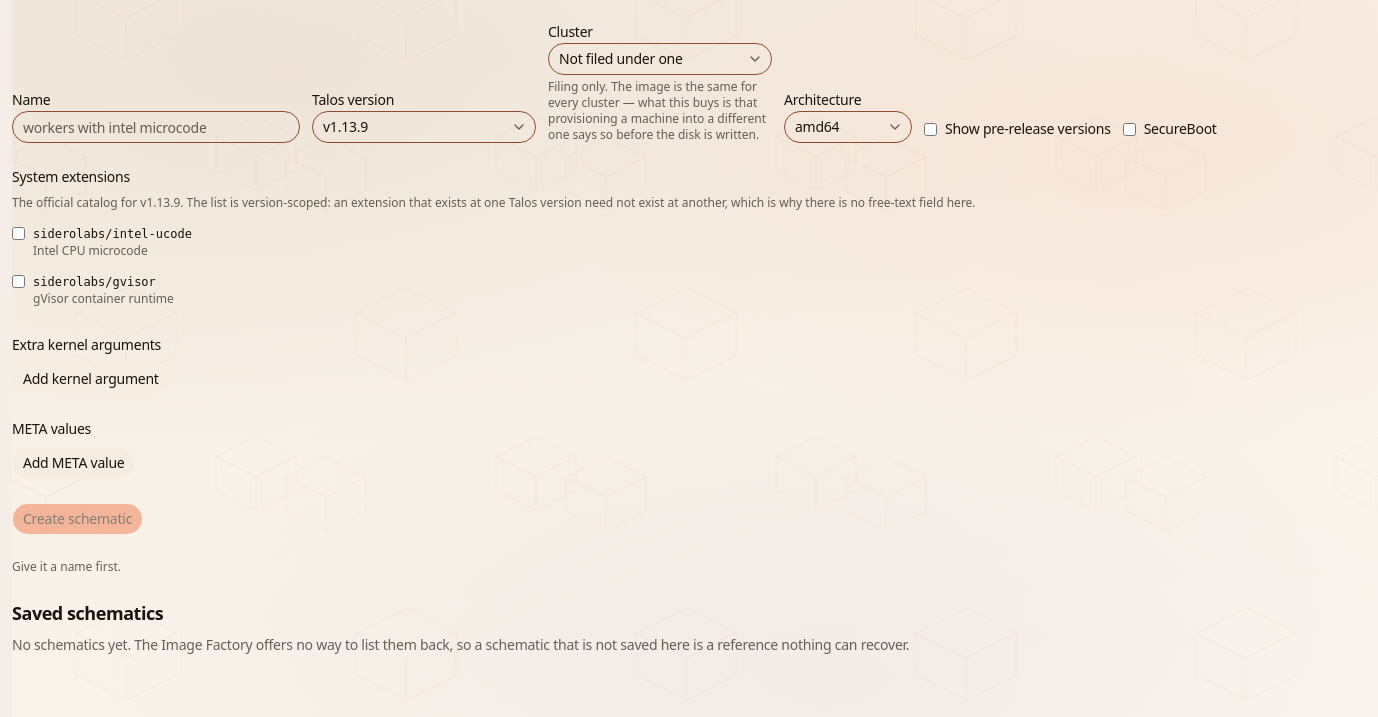
Scenario: ImagesView — the authoring half › refuses a META key past 255 here rather than letting the server explain it
In the field labelled "Name": (156, 127) [12,111,300,143], type "wide-key"
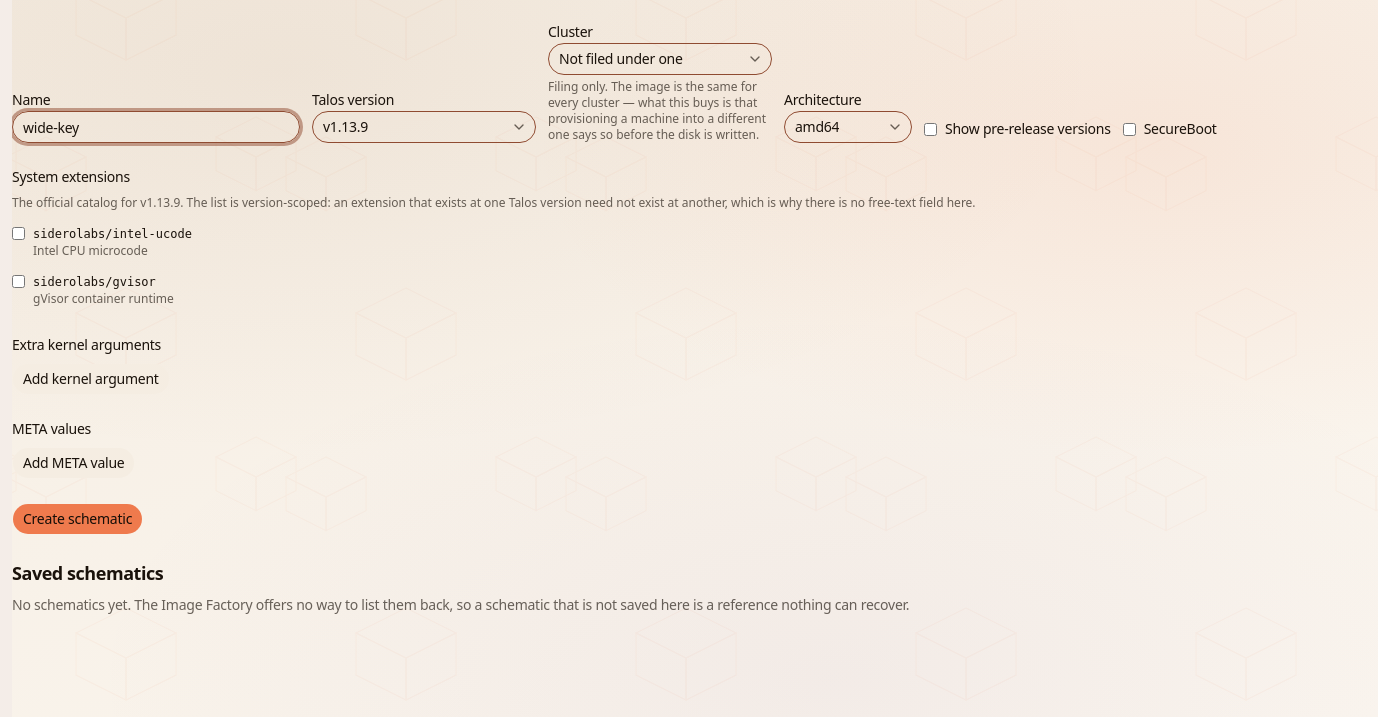
Click the button "Add META value": (74, 463) [12,447,136,479]
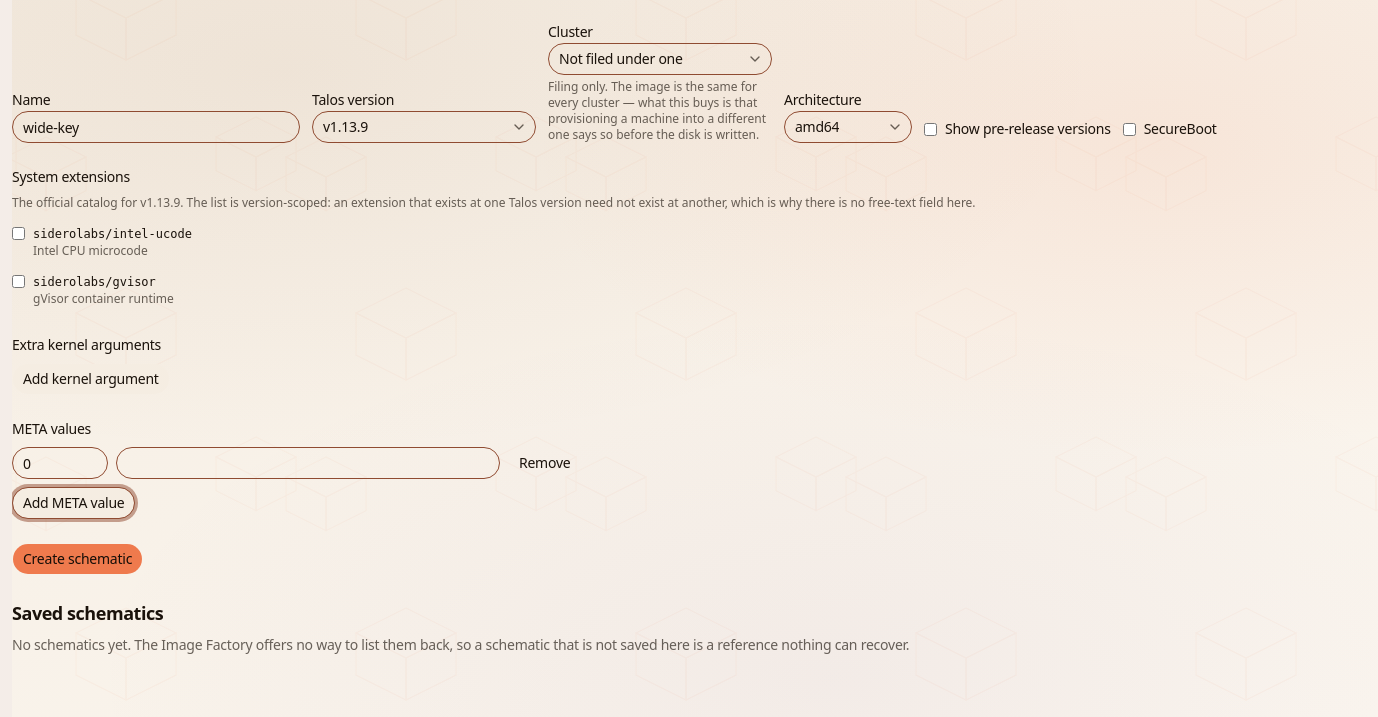
In the field named "META value 1": (308, 463) [116,447,500,479], type "something"
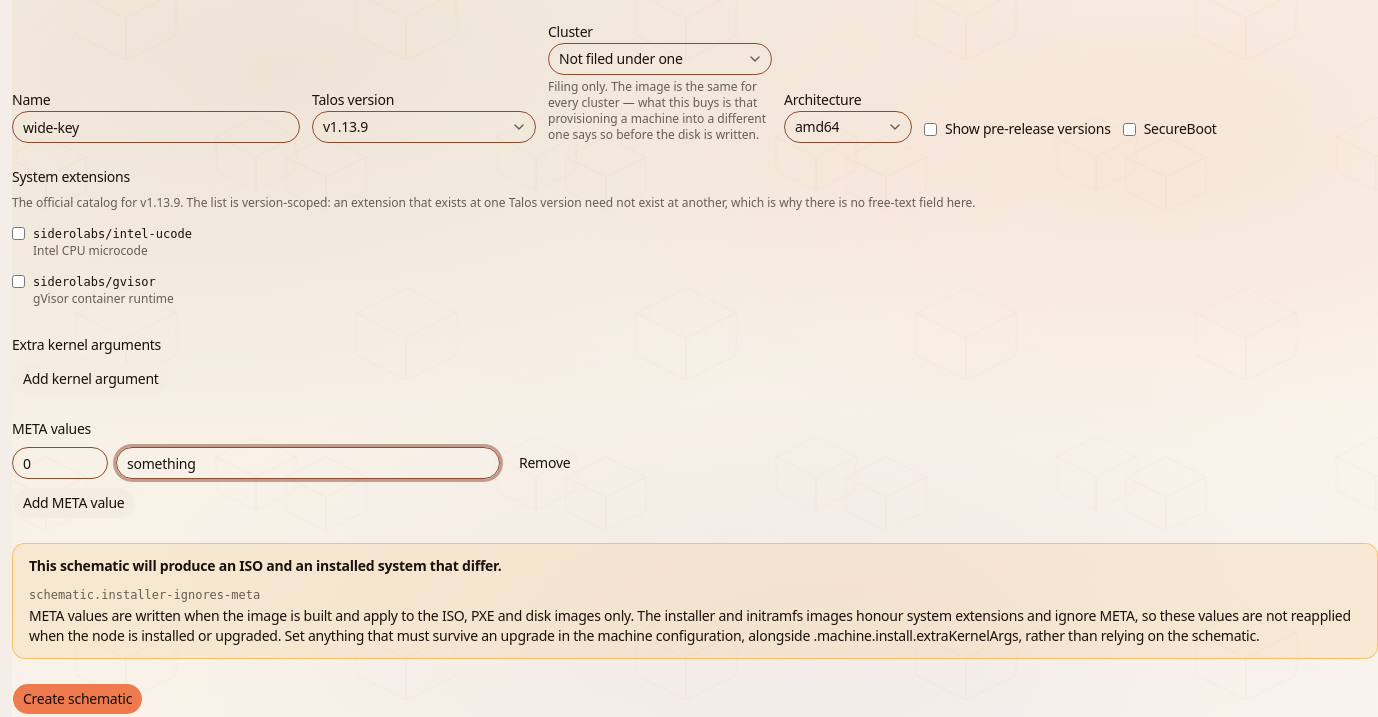
Replace the text in the number field named "META key 1" with "300": (60, 463) [12,447,108,479]
(page scrolled)
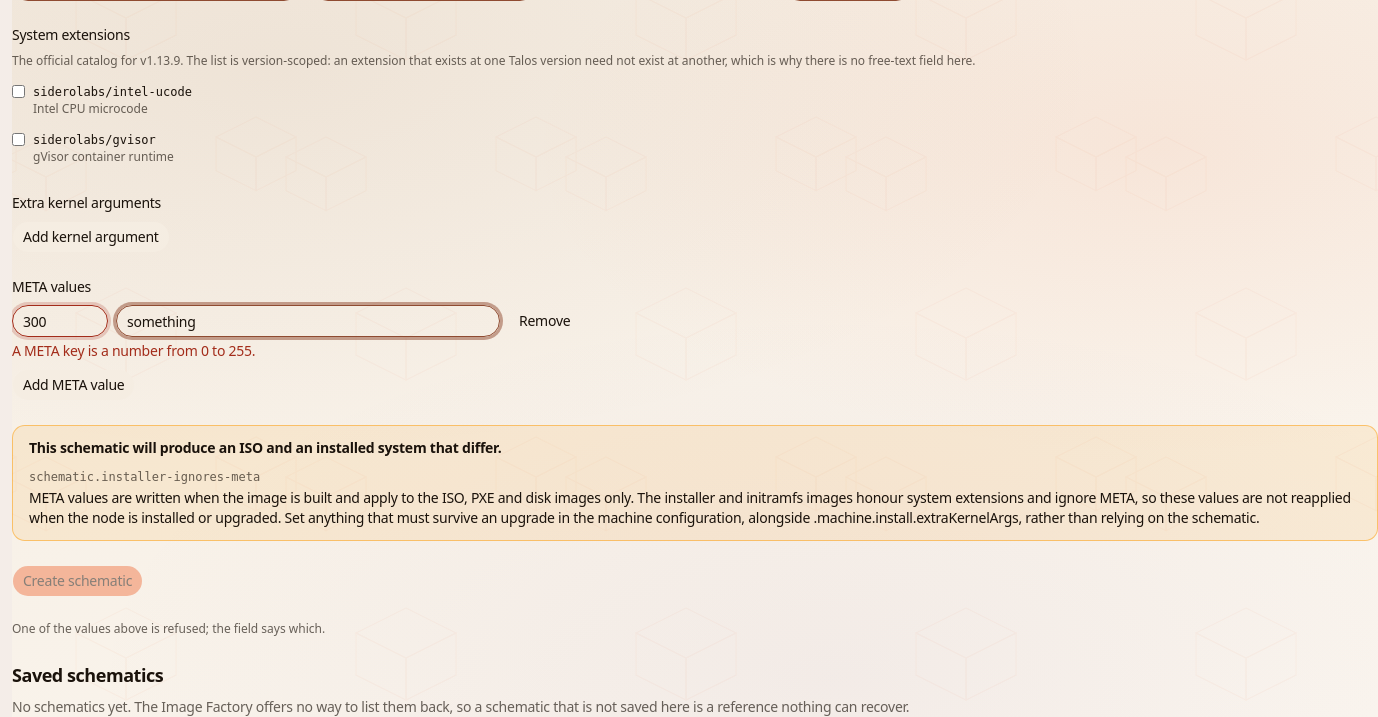
Result: the message named "META key 1 is not usable" is shown at [12,341,255,360]
Result: the button "Create schematic" is disabled at [12,565,143,597]
